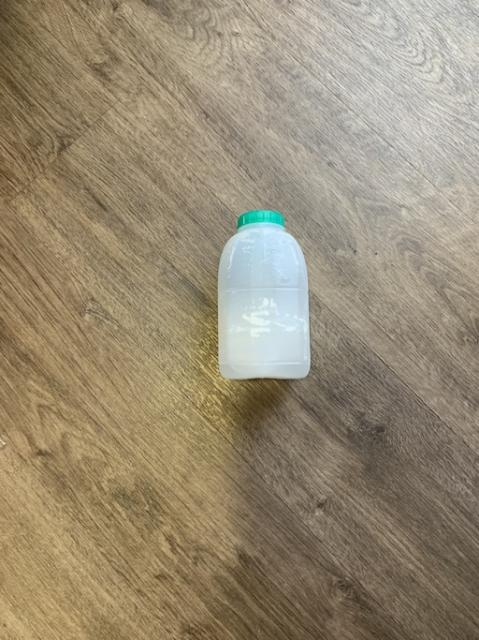plastic: (217, 210, 309, 377)
